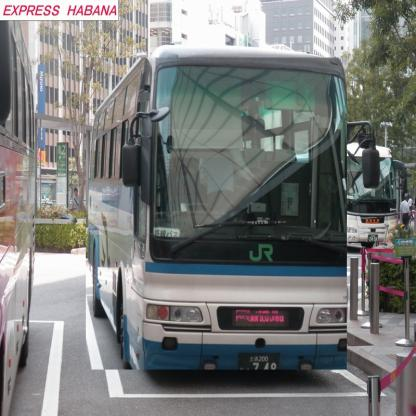bus: (87, 59, 348, 371)
